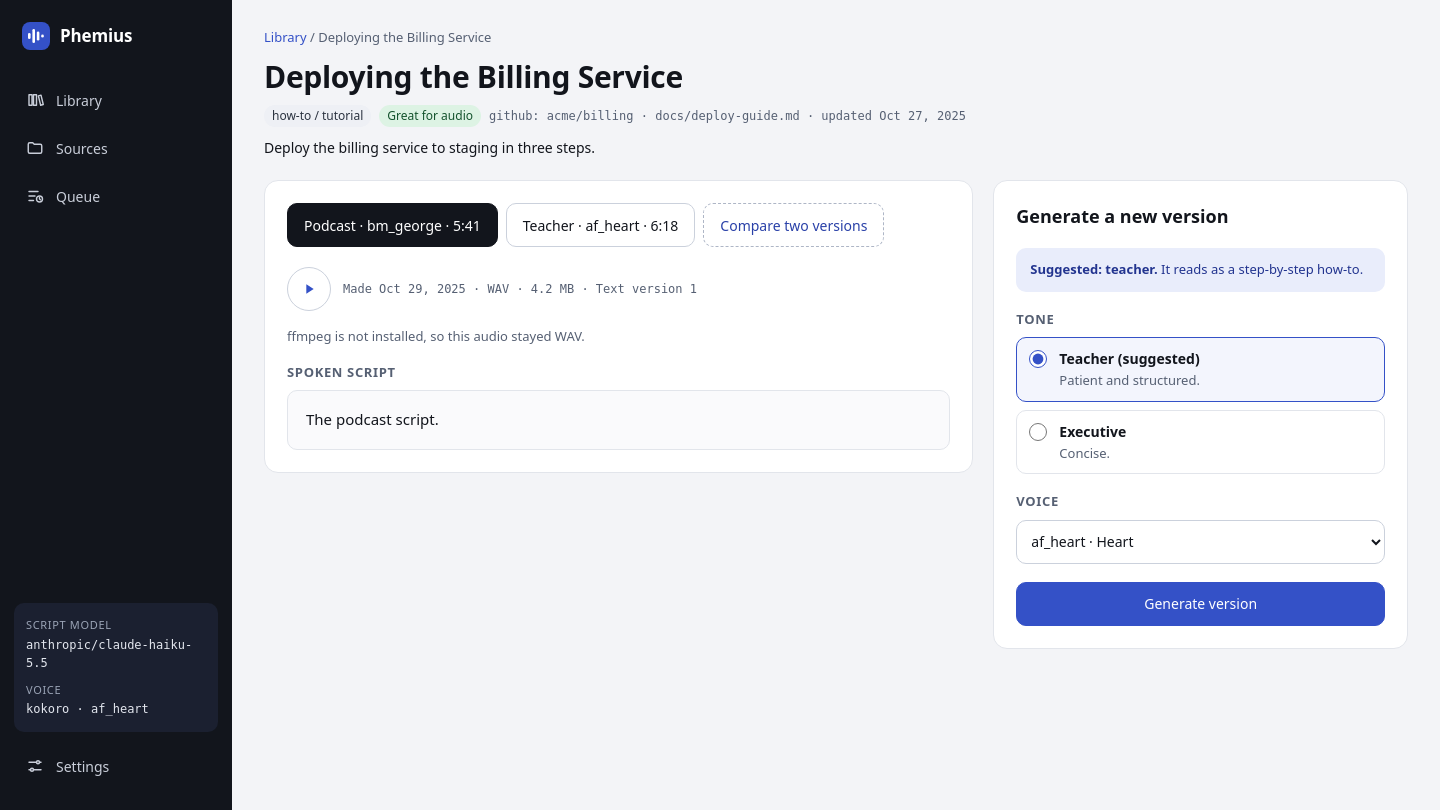
document page › plays the selected version in the player bar
expect the heading "Deploying the Billing Service" is shown: met, box [264, 56, 683, 96]
What coordinates should you click on to do the following:
click the button named "Play Deploying the Billing Service"
I would click on:
 (309, 289)
Its box is [287, 267, 331, 311].
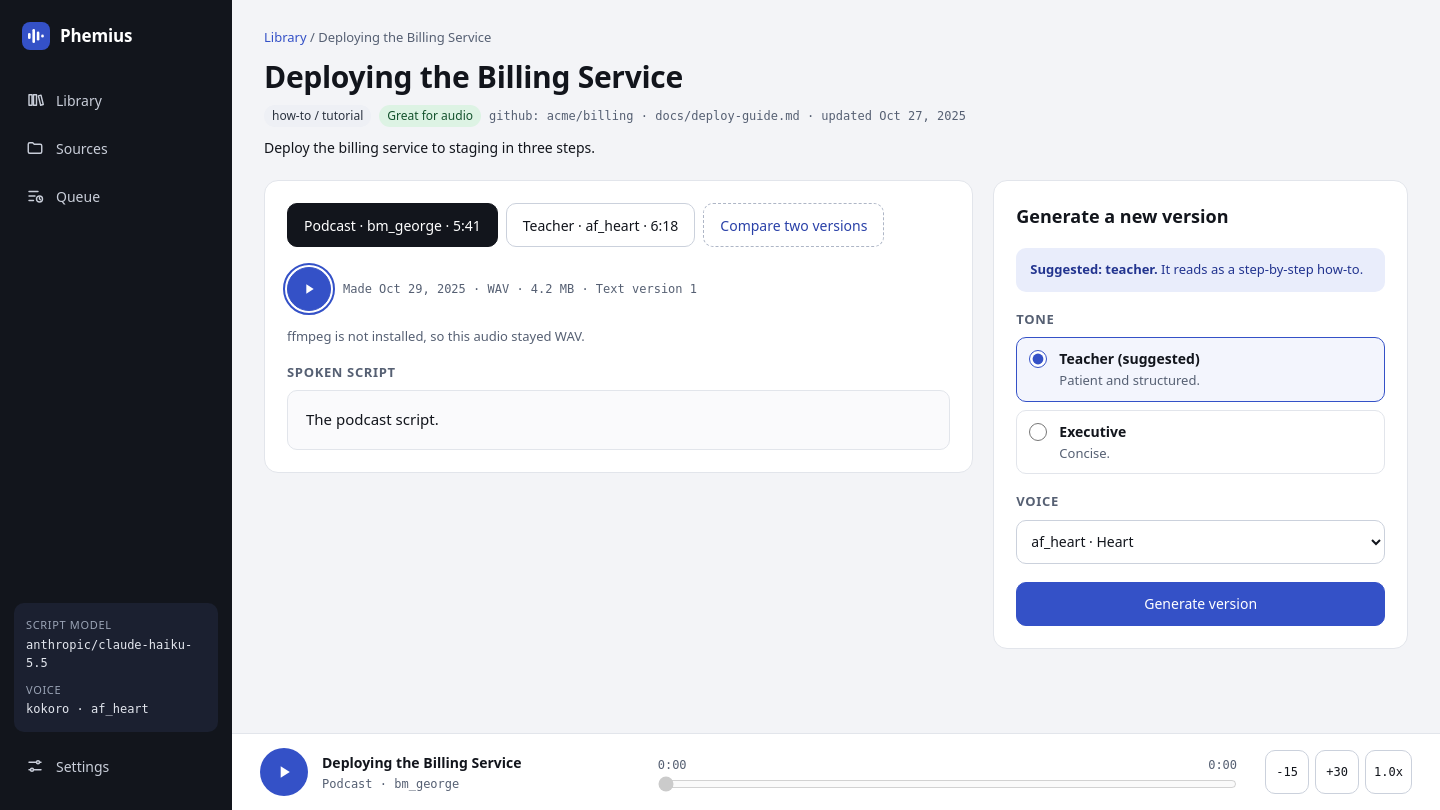
expect the text "Podcast · bm_george" is shown: met, box [322, 776, 459, 790]
